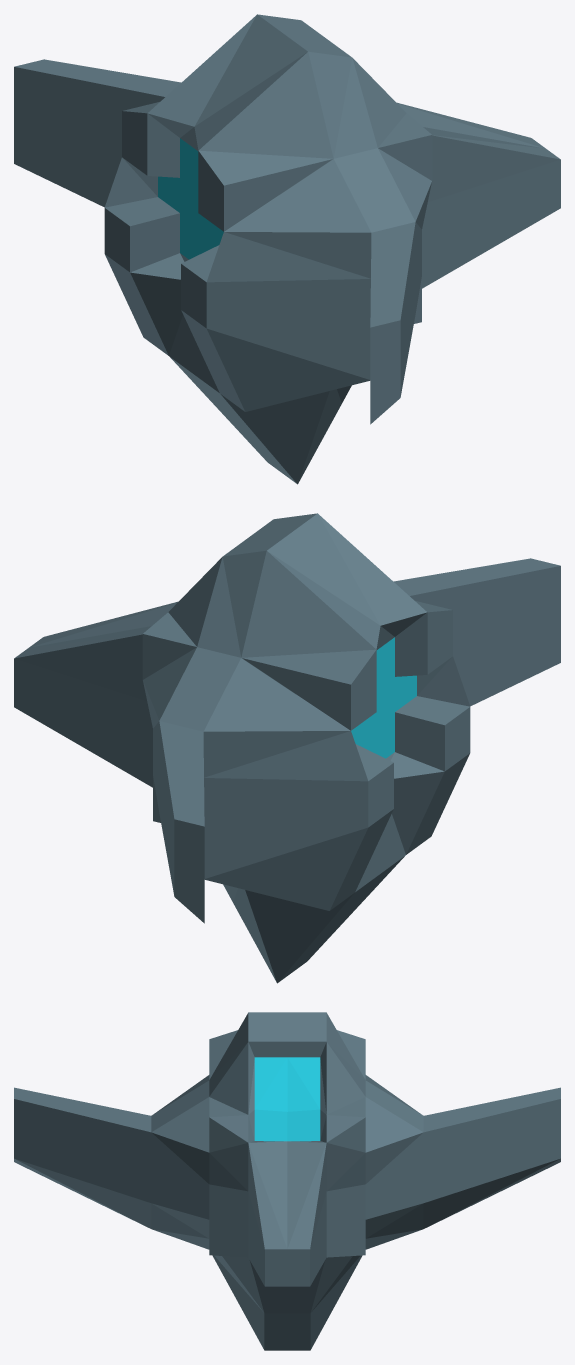
3 renders of one model, top to bottom at view 1: azimuth 30°, elevation 25°; view 2: azimuth 150°, elevation 25°; view 3: azimuth 270°, elevation 25°, orthographic. The views are drawn at different scales.
Visible parts, largest first — view 1: Base; view 2: Base; view 3: Base.
Part boxes in pixels (x1=…): Base: x1=14, y1=14, x2=560, y2=484; Base: x1=14, y1=513, x2=560, y2=983; Base: x1=14, y1=1012, x2=560, y2=1350.
Bounding box in the file's own units: 442 × 477 × 699.
